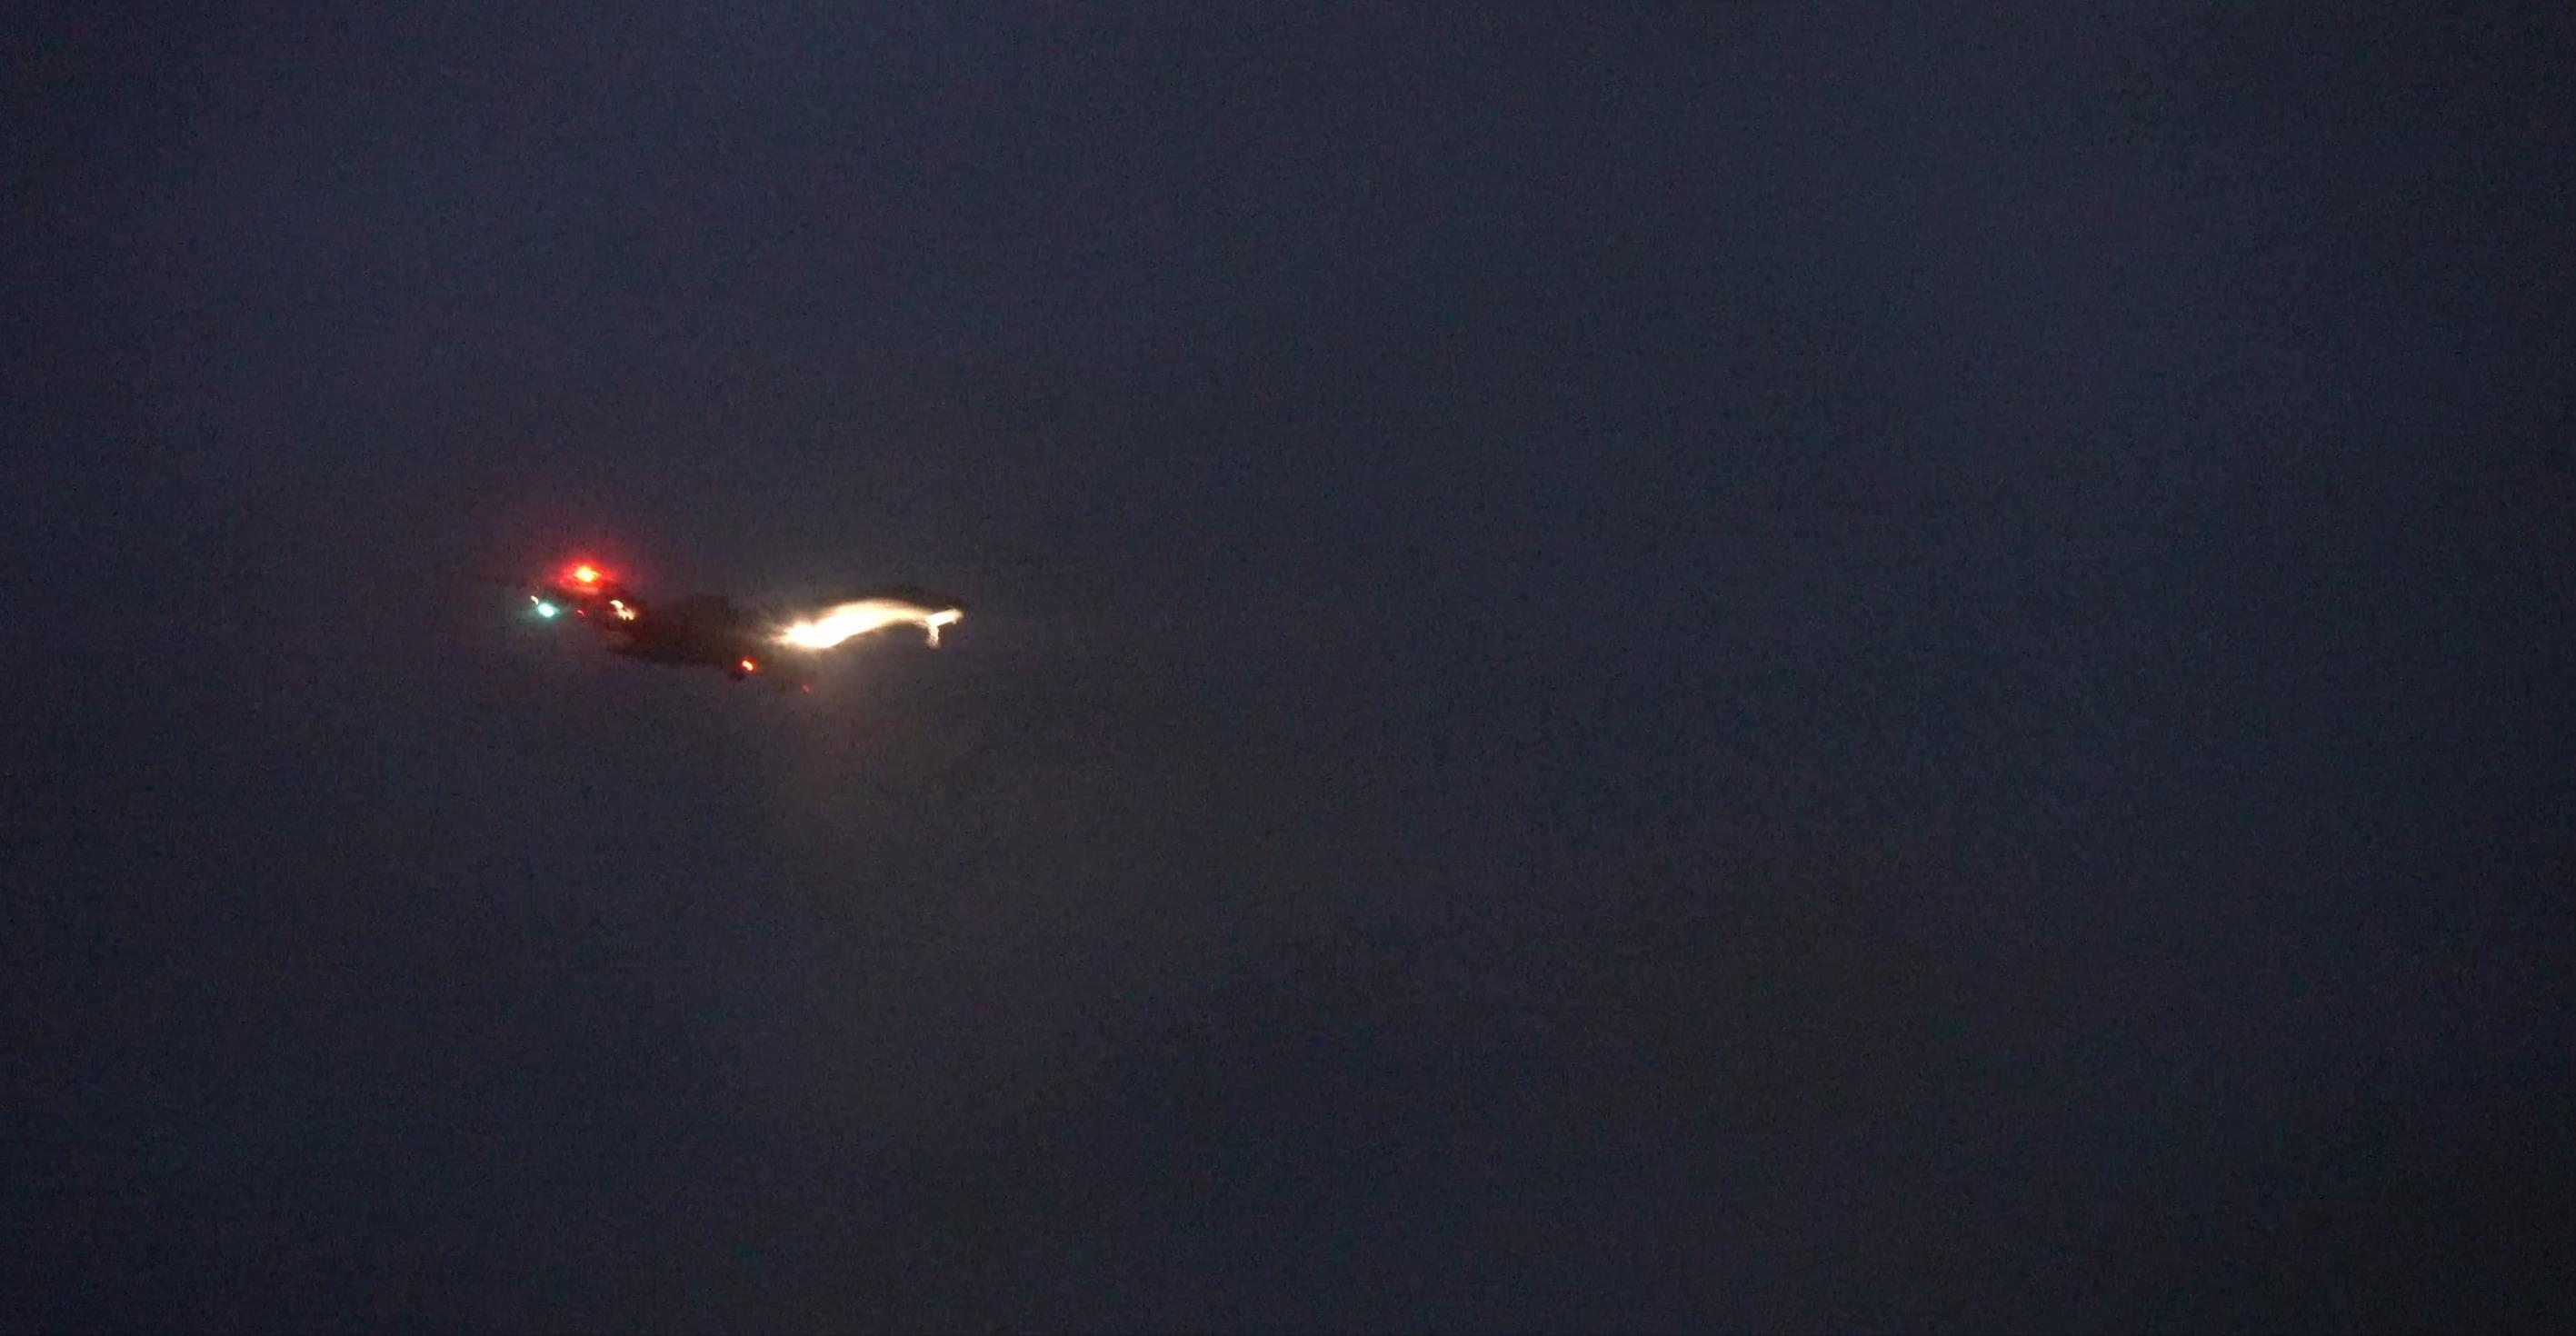Plane: (497, 528, 1009, 709)
